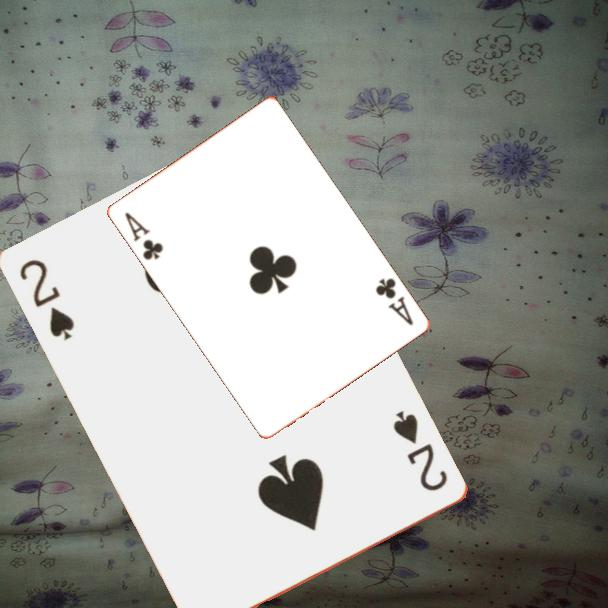c01: (121, 208, 166, 263), (371, 274, 416, 328)
s02: (16, 255, 78, 344), (390, 406, 451, 495)
